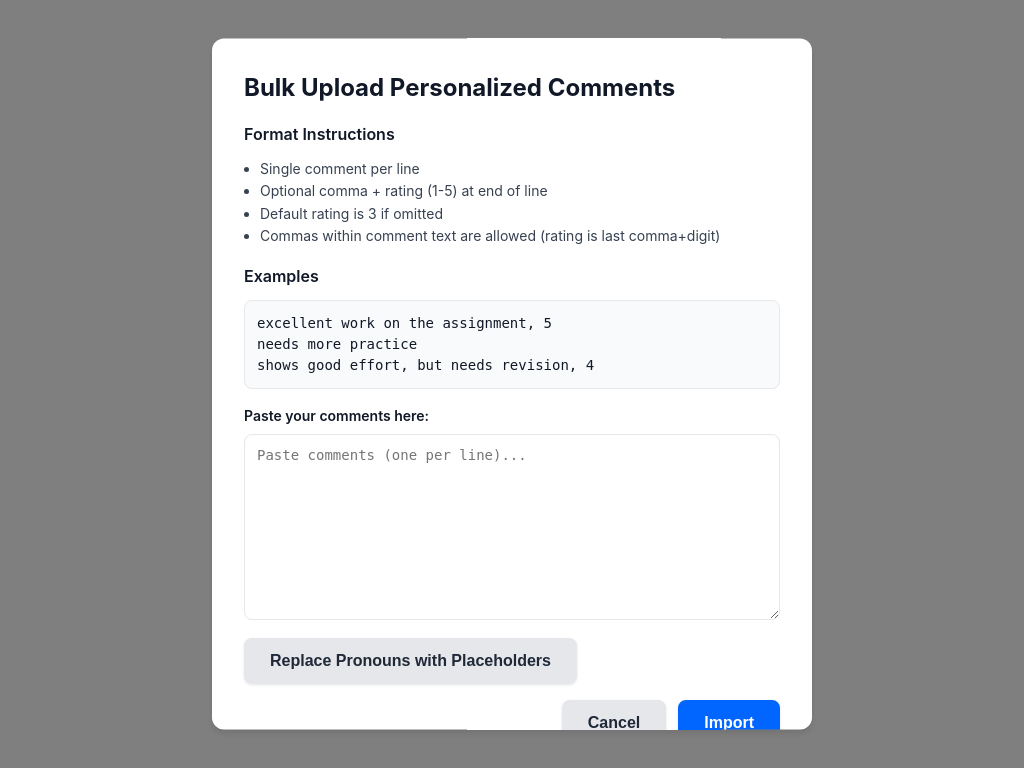
BulkUploadModal - Replace Pronouns with Placeholders Button › AC-2.3: Loading State › should show loading state briefly when replacing pronouns
Type some text
Type "He is excellent" into the text box labelled "Paste your comments here:".
click(512, 527); type("He is excellent")  # box 244,434 -> 780,620
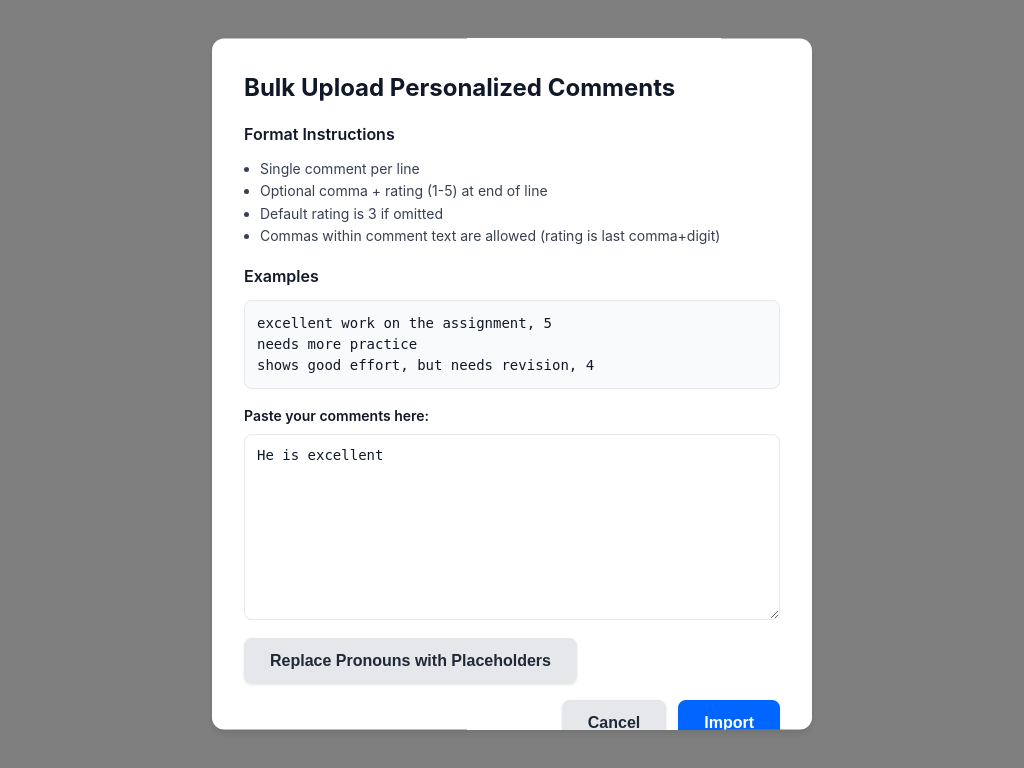
Click button
Click the button "Replace Pronouns with Placeholders".
click(410, 661)  # box 244,638 -> 577,684
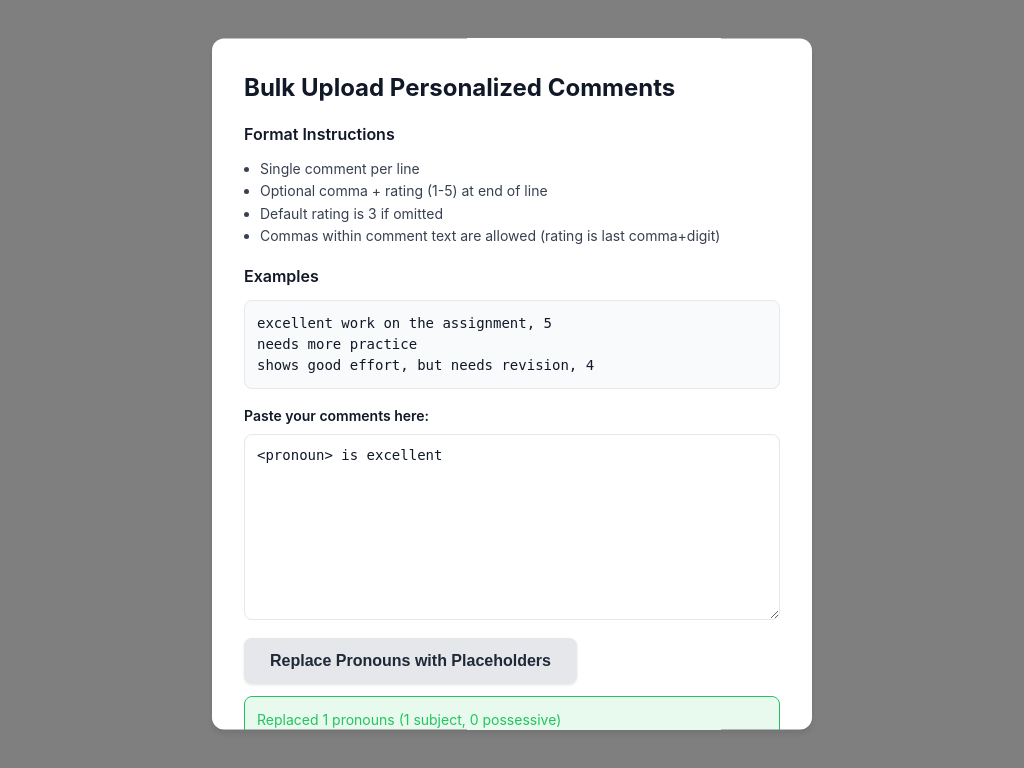
Check: the text box labelled "Paste your comments here:" holds "<pronoun> is excellent", box 244,434 -> 780,620
